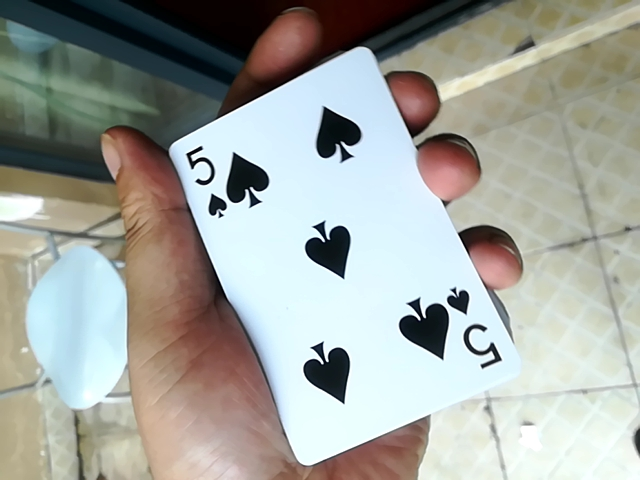ht 5: (157, 42, 501, 467)
